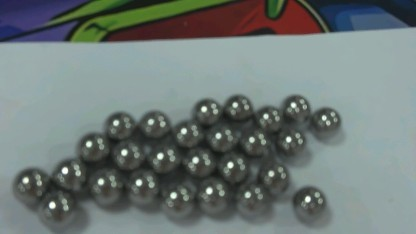ironball: (38, 189, 79, 227), (17, 163, 51, 205), (127, 171, 159, 214), (89, 164, 120, 208), (198, 178, 231, 219), (294, 182, 328, 219), (255, 156, 289, 192), (109, 137, 144, 169), (52, 159, 86, 191), (76, 130, 109, 161), (221, 90, 253, 121), (235, 183, 267, 214), (310, 100, 339, 134), (183, 147, 214, 178), (204, 119, 234, 150), (170, 116, 200, 146), (139, 107, 168, 138), (163, 183, 192, 214), (217, 154, 248, 182), (283, 91, 308, 124), (191, 93, 218, 122), (106, 107, 132, 137), (240, 122, 264, 153), (148, 144, 175, 171), (278, 126, 304, 154), (258, 106, 278, 129)
